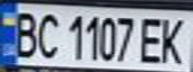0: (97, 12, 118, 62)
1: (63, 10, 84, 61), (81, 12, 100, 61)
7: (115, 12, 139, 63)
B: (9, 7, 42, 60)
C: (33, 8, 63, 60)
E: (136, 13, 169, 64)
K: (157, 14, 190, 65)
